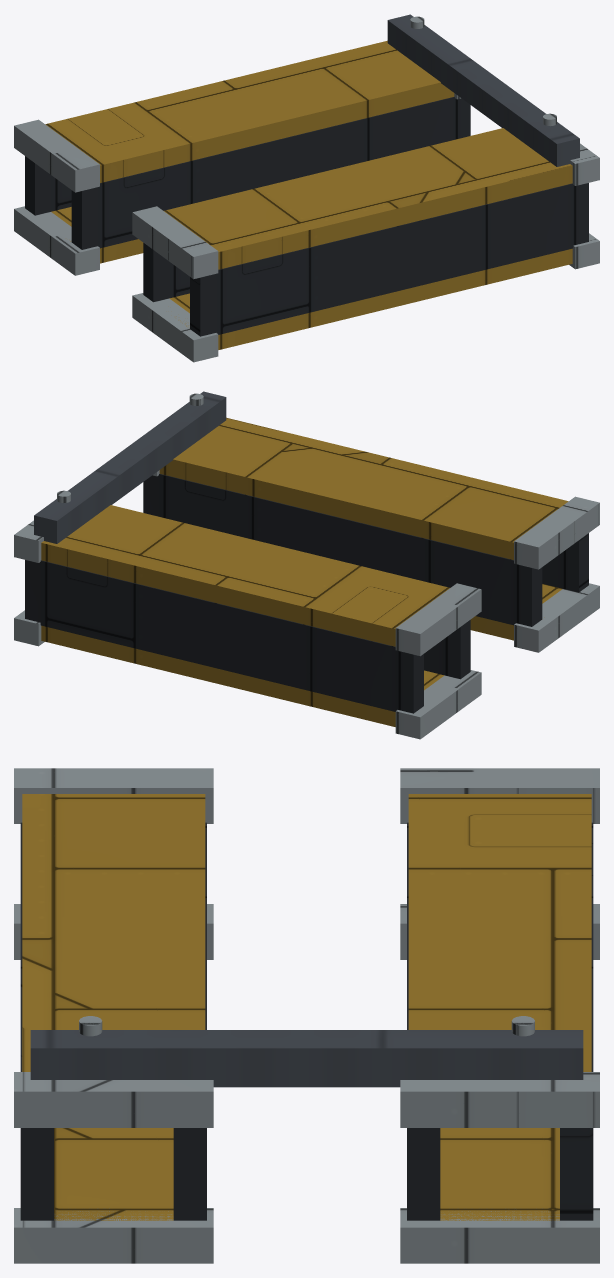
File: cargo-fork-receiver_lod1.glb
The picture shows the model from 3 angles, top to bottom: view 1: azimuth 30°, elevation 25°; view 2: azimuth 150°, elevation 25°; view 3: azimuth 270°, elevation 25°; orthographic projection. The views are drawn at different scales.
Visible parts, largest first — view 1: LOD1_Livery, LOD1_Armor, LOD1_BrushedMetal, LOD1_Mechanical; view 2: LOD1_Livery, LOD1_Armor, LOD1_BrushedMetal, LOD1_Mechanical; view 3: LOD1_Livery, LOD1_BrushedMetal, LOD1_Mechanical, LOD1_Armor.
Boxes of the visible parts, x1,y1,x2,y2 form: LOD1_Livery: [45, 40, 572, 349]; LOD1_Armor: [25, 97, 588, 336]; LOD1_BrushedMetal: [14, 16, 599, 362]; LOD1_Mechanical: [387, 14, 579, 166]; LOD1_Livery: [41, 417, 568, 726]; LOD1_Armor: [25, 474, 588, 713]; LOD1_BrushedMetal: [14, 393, 599, 739]; LOD1_Mechanical: [34, 391, 226, 543]; LOD1_Livery: [22, 794, 591, 1220]; LOD1_BrushedMetal: [14, 768, 599, 1263]; LOD1_Mechanical: [30, 1030, 583, 1087]; LOD1_Armor: [20, 822, 593, 1220].
Size of the model in its own units: 2.3 by 0.735 by 1.76.
Materials: 4 (4 with a texture image).
